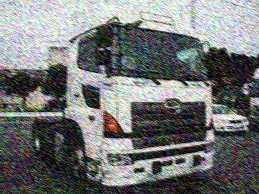truck: (31, 14, 212, 193)
